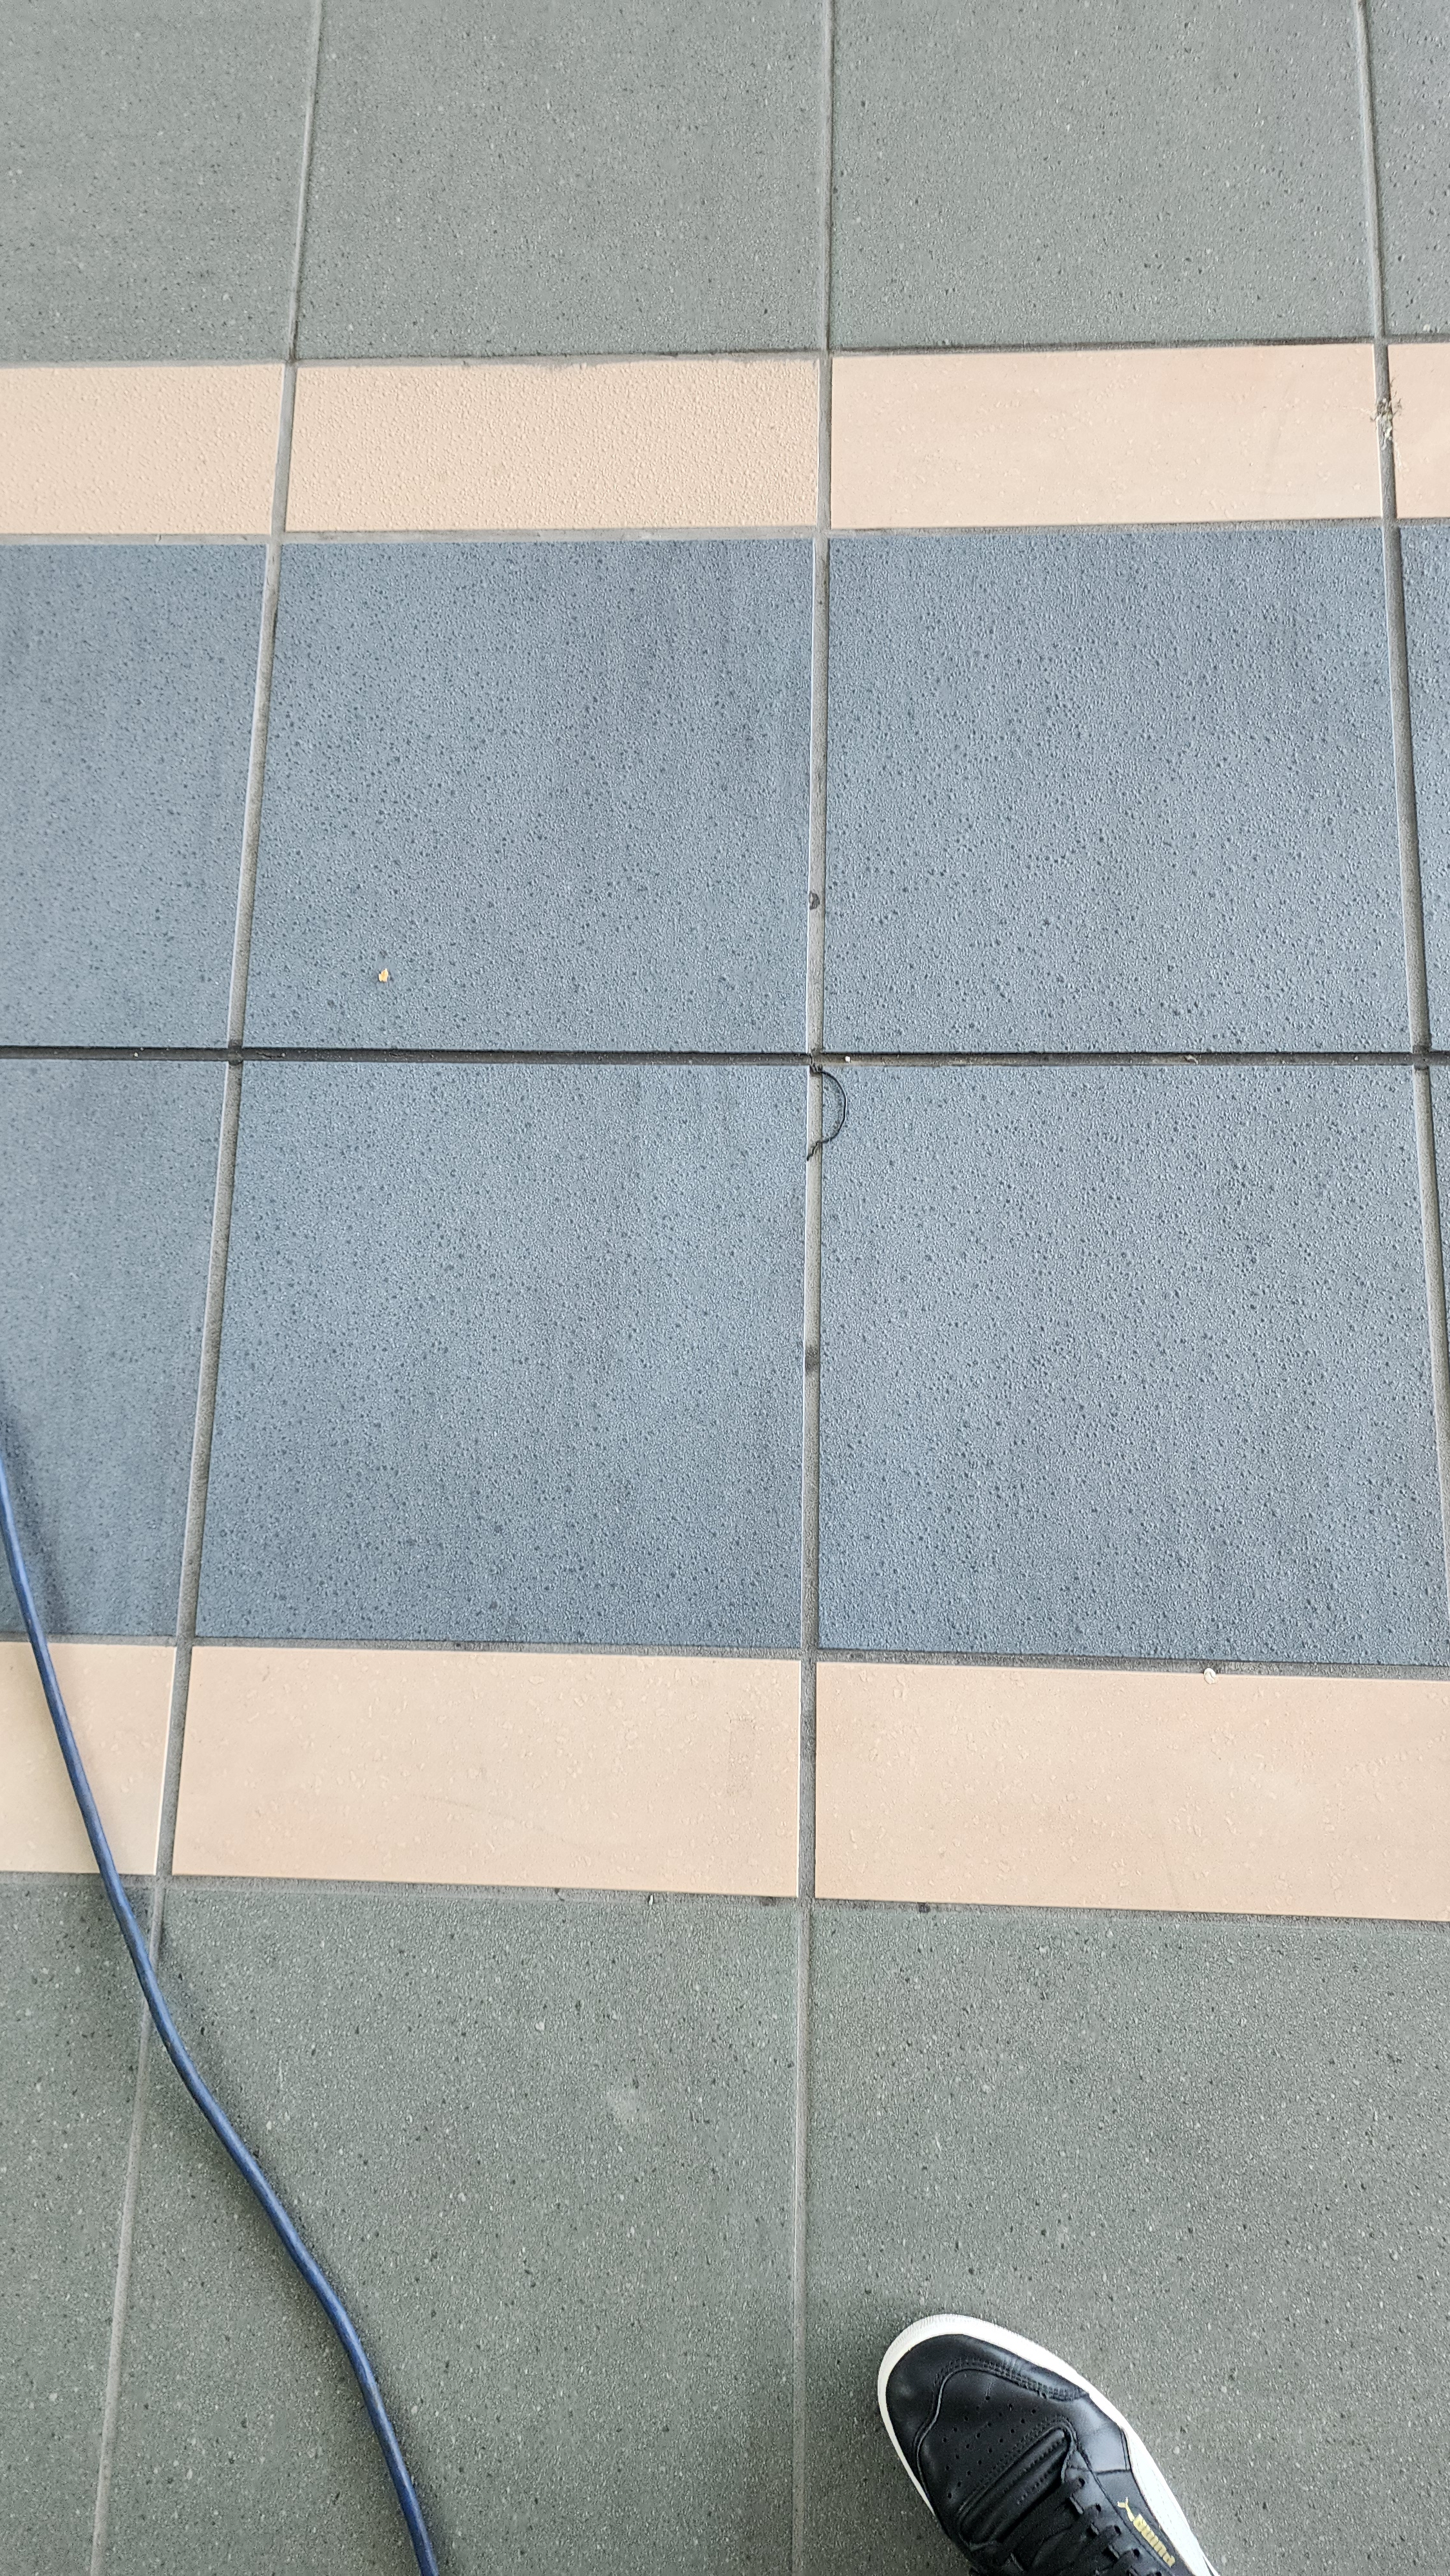Garbage: (780, 1054, 879, 1177), (364, 954, 416, 1003)
